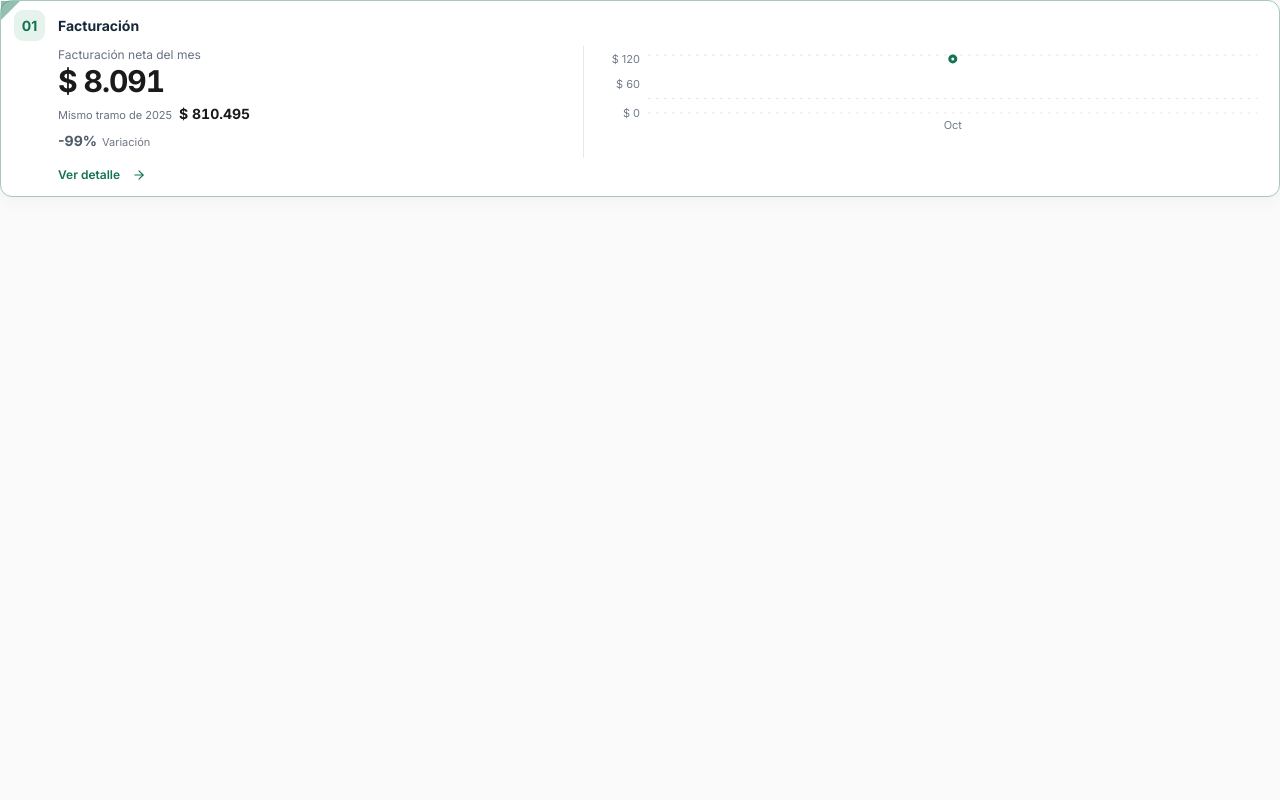
Test: compact overview panel › condenses billing to three useful KPIs with LY changes and credit share
Step 1. Click the button with aria-label "Ver detalle de Facturación" → [102, 175], box [58,162,146,188]
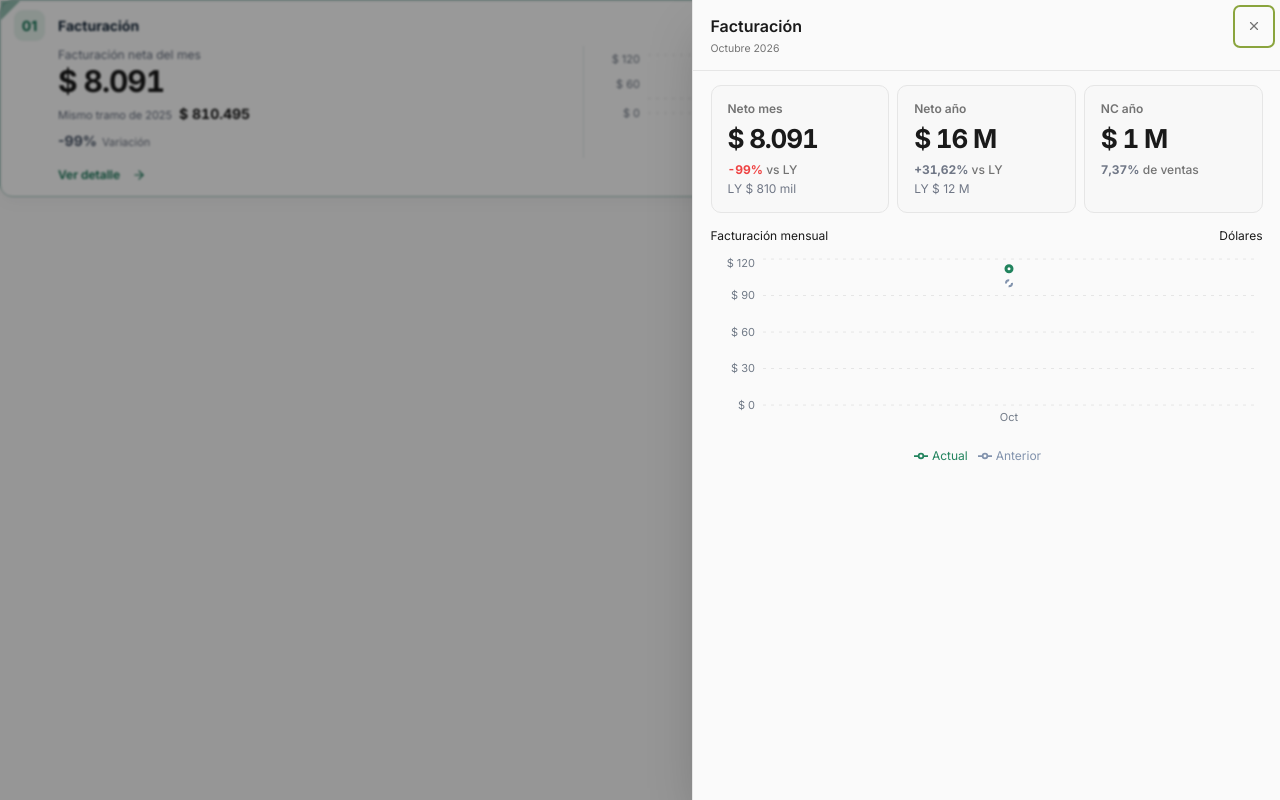
Expected: the element with class "story-billing-metrics" shows "Neto mes", [728,100,783,116]
Expected: the element with class "story-billing-metrics" shows "Neto año", [914,100,966,116]
Expected: the element with class "story-billing-metrics" shows "NC año", [1101,100,1143,116]
